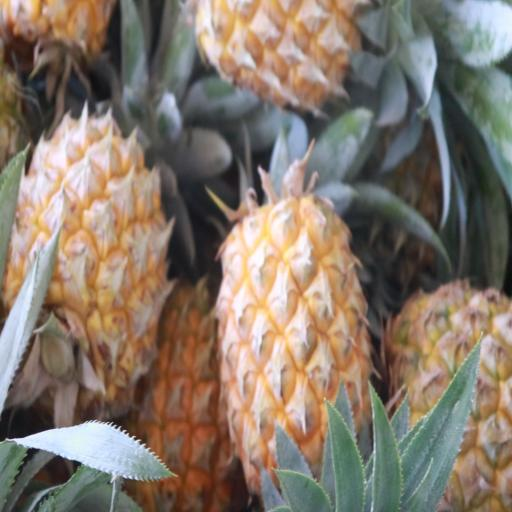Pineapple - v8 v1: (219, 191, 371, 500), (14, 115, 165, 404), (384, 279, 512, 510), (122, 280, 238, 510)
